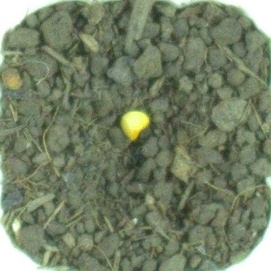pepper seed: (42, 39, 193, 181)
